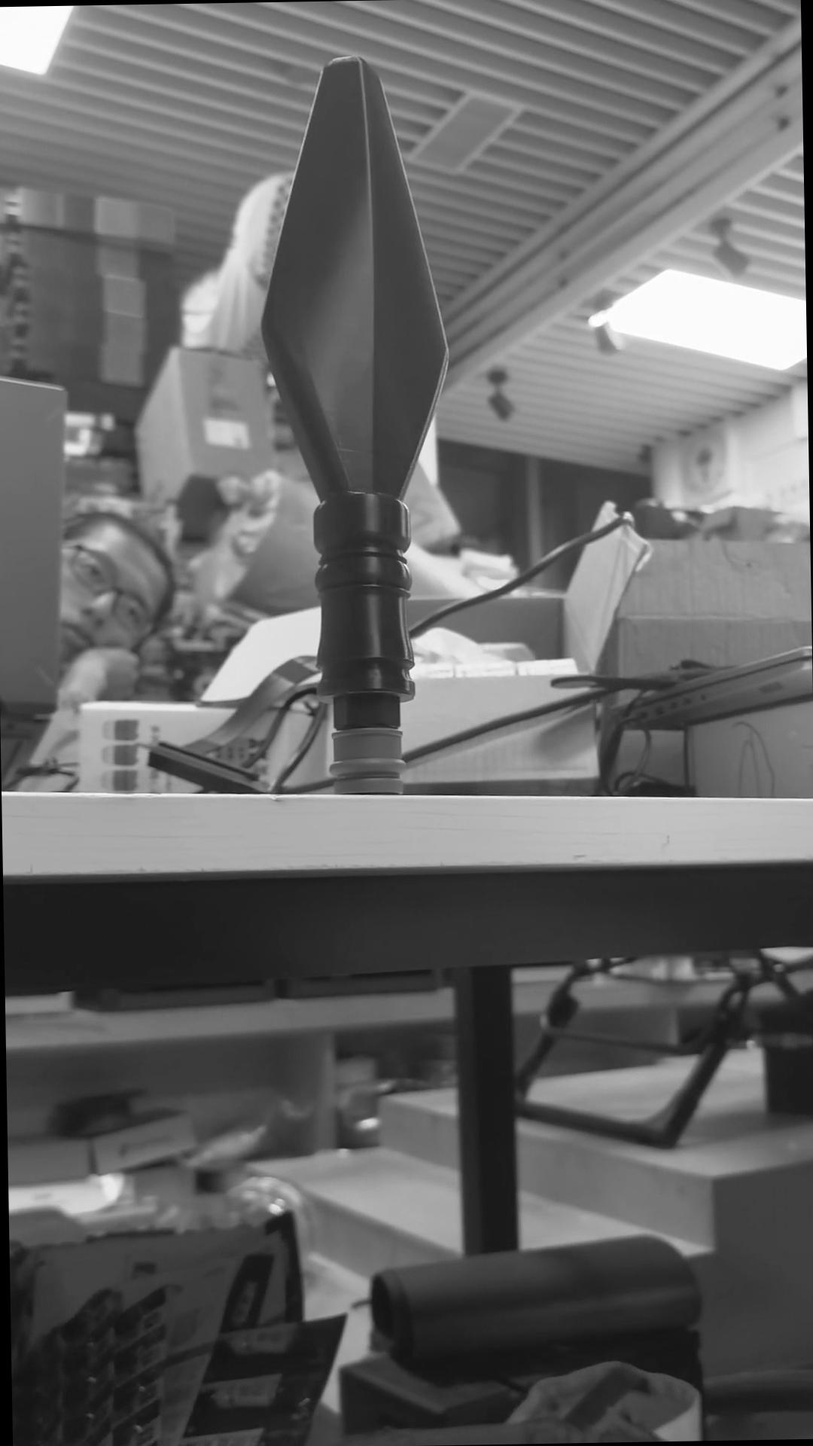base: (326, 721, 410, 803)
